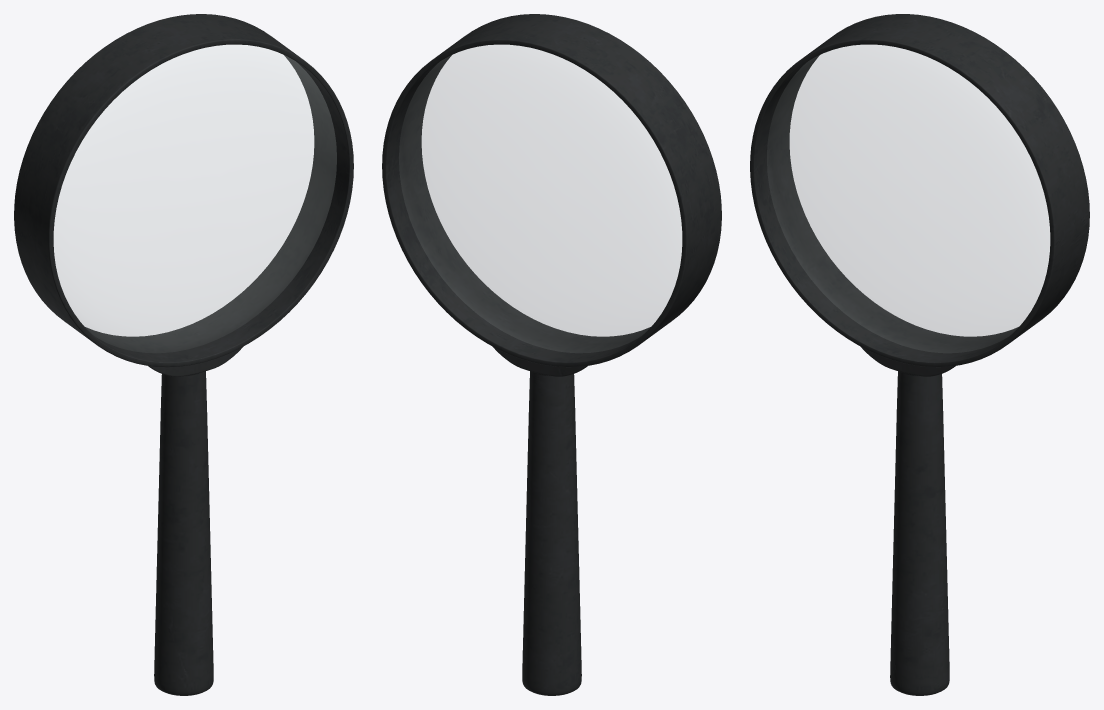
Rendered from magnifying_glass_01.glb.
The picture shows the model from 3 angles, left to right: view 1: azimuth 30°, elevation 25°; view 2: azimuth 150°, elevation 25°; view 3: azimuth 330°, elevation 25°; orthographic projection.
Visible parts, largest first — view 1: magnifying_glass_01; view 2: magnifying_glass_01; view 3: magnifying_glass_01.
Boxes of the visible parts, <box> form: magnifying_glass_01: <box>14,14,353,695</box>; magnifying_glass_01: <box>382,14,721,695</box>; magnifying_glass_01: <box>750,14,1089,695</box>.
Size of the model in its own units: 0.1321 by 0.2716 by 0.0267.
Materials: 2 (1 with a texture image).
